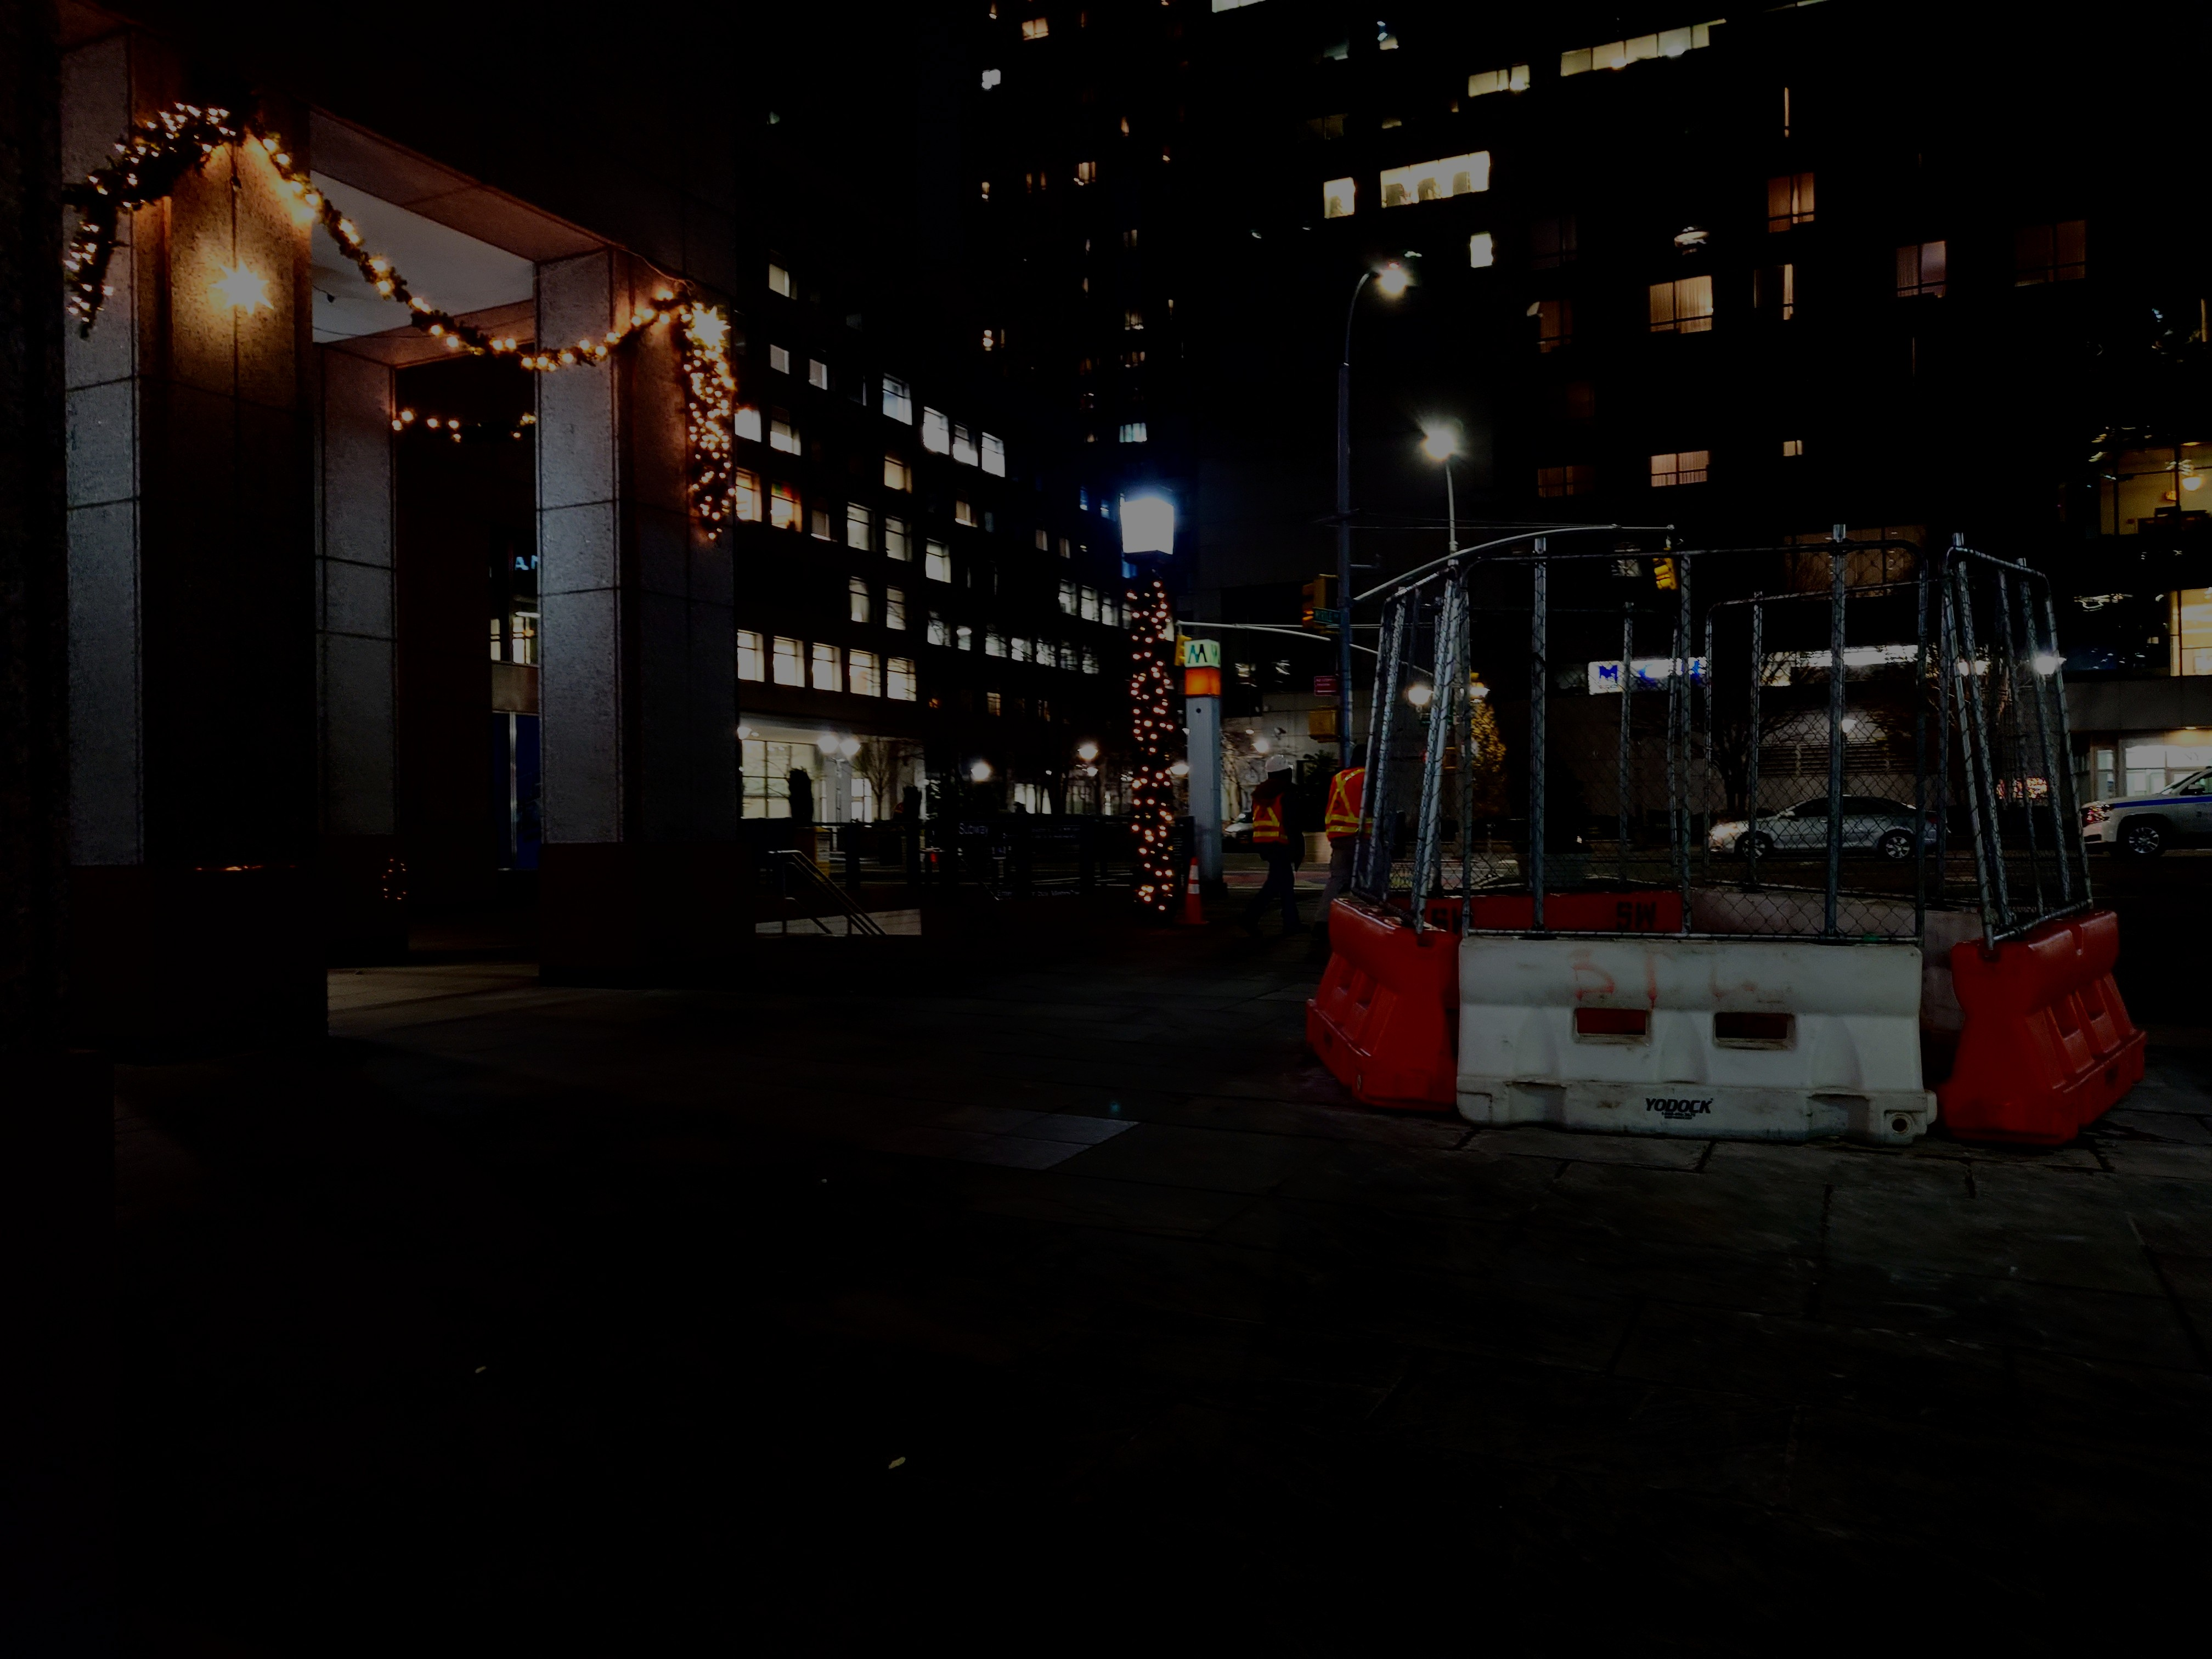car: (1703, 796, 1950, 864), (2078, 772, 2212, 857)
person: (1315, 745, 1382, 947), (1251, 753, 1305, 961)
